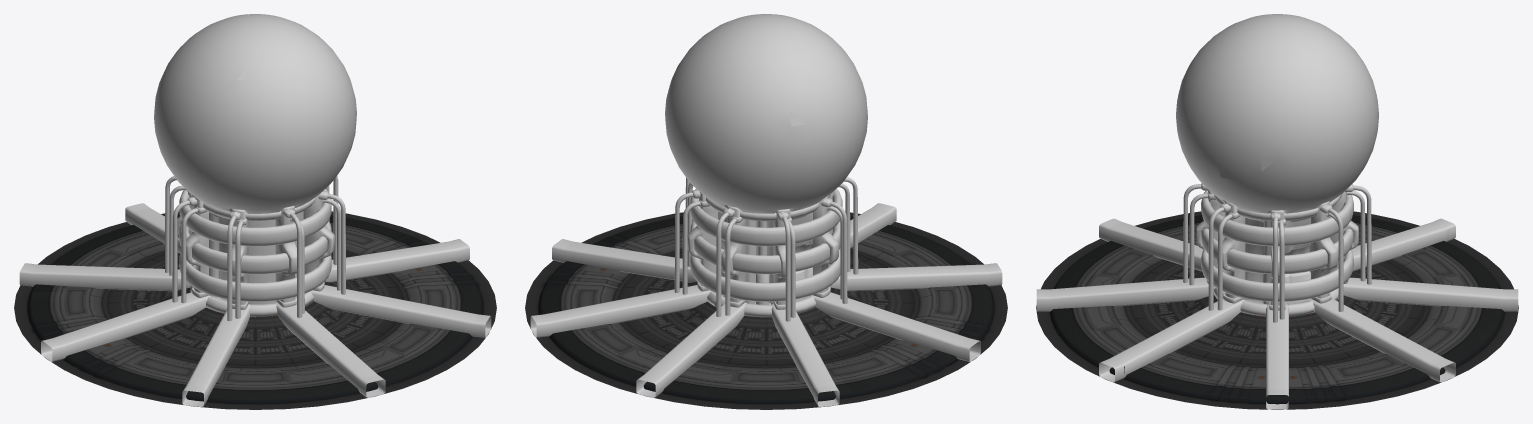
The model's file is eezoCore.obj.
3 views of the same model, side by side, from view 1: azimuth 30°, elevation 25°; view 2: azimuth 150°, elevation 25°; view 3: azimuth 270°, elevation 25° (orthographic).
Visible parts, largest first — view 1: base, mid, core; view 2: base, mid, core; view 3: base, mid, core.
Part boxes in pixels (bbox=[...]): base: bbox=[14, 211, 496, 409]; mid: bbox=[19, 176, 491, 406]; core: bbox=[154, 14, 356, 213]; base: bbox=[525, 212, 1007, 409]; mid: bbox=[530, 177, 1002, 406]; core: bbox=[665, 14, 867, 213]; base: bbox=[1036, 211, 1518, 409]; mid: bbox=[1036, 183, 1518, 409]; core: bbox=[1176, 14, 1378, 213].
Size of the model in its own units: 1917 by 1246 by 1917.
